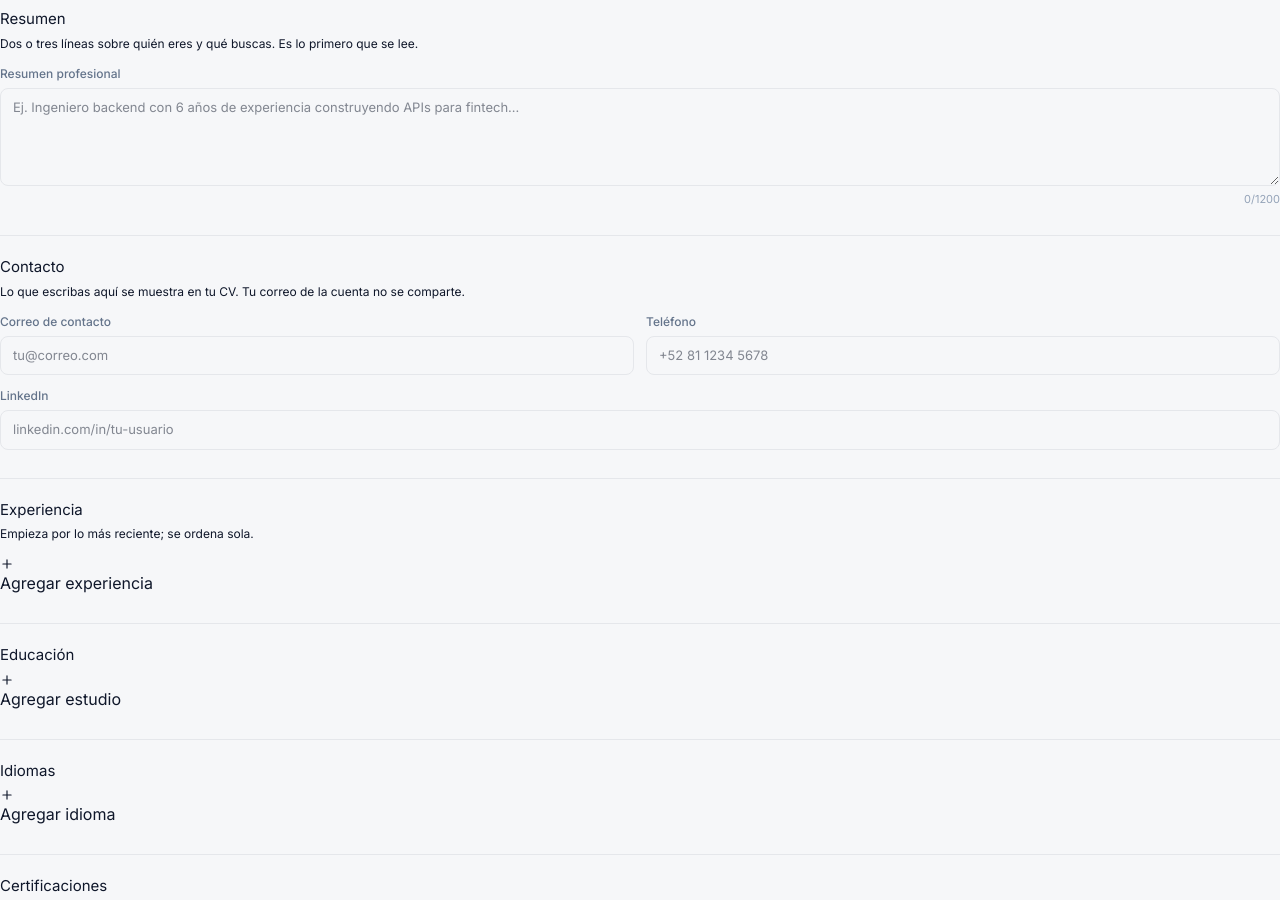
Test case: experience › treats a new entry as the current job until an end date is chosen
This screenshot has width=1280, height=900.
Click the button "Agregar experiencia" at (76, 576), box [0,557,153,595]
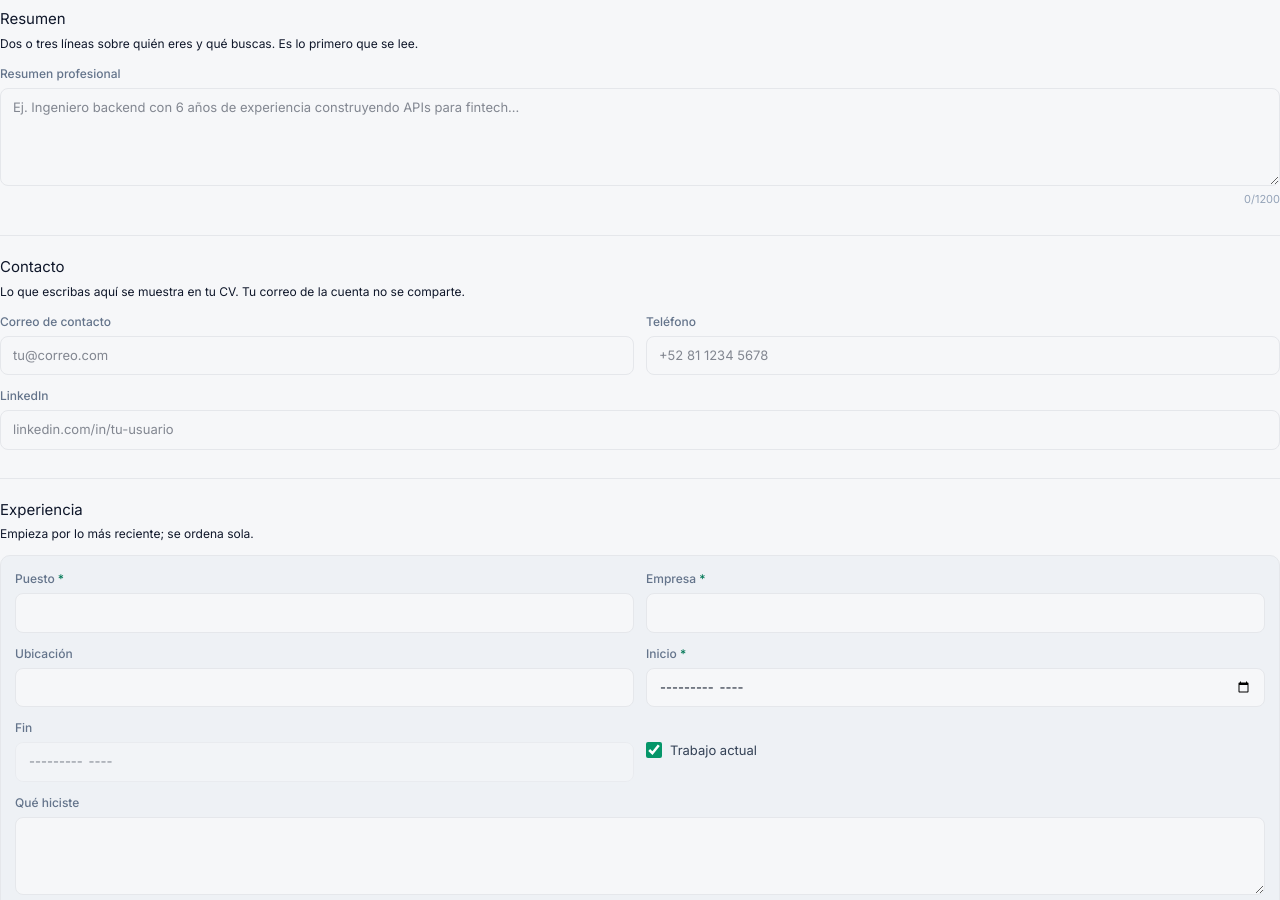
Expected: the checkbox named "Trabajo actual (experiencia 1)" is checked, [646,742,662,758]
Expected: the field named "Fin (experiencia 1)" is disabled, [15,742,634,782]
